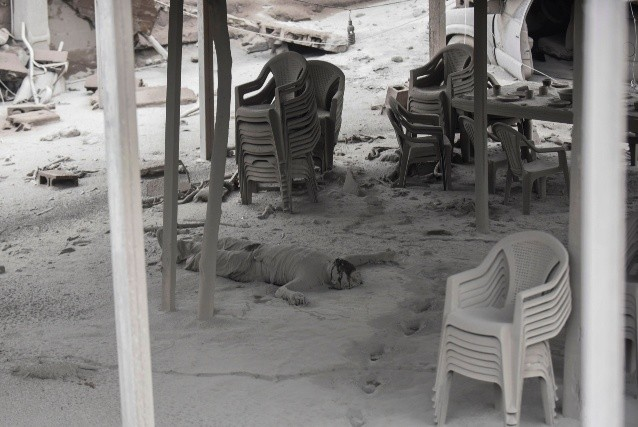Korban: (155, 226, 397, 307)
